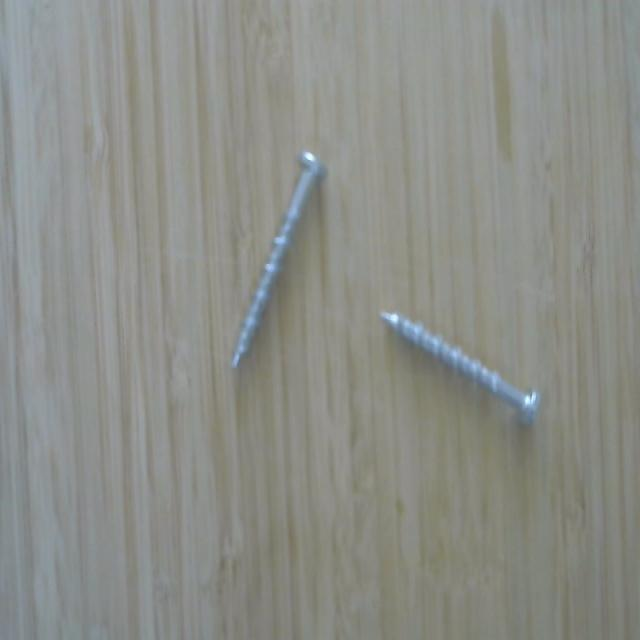Medium screw: (223, 142, 331, 374), (375, 298, 542, 434)
